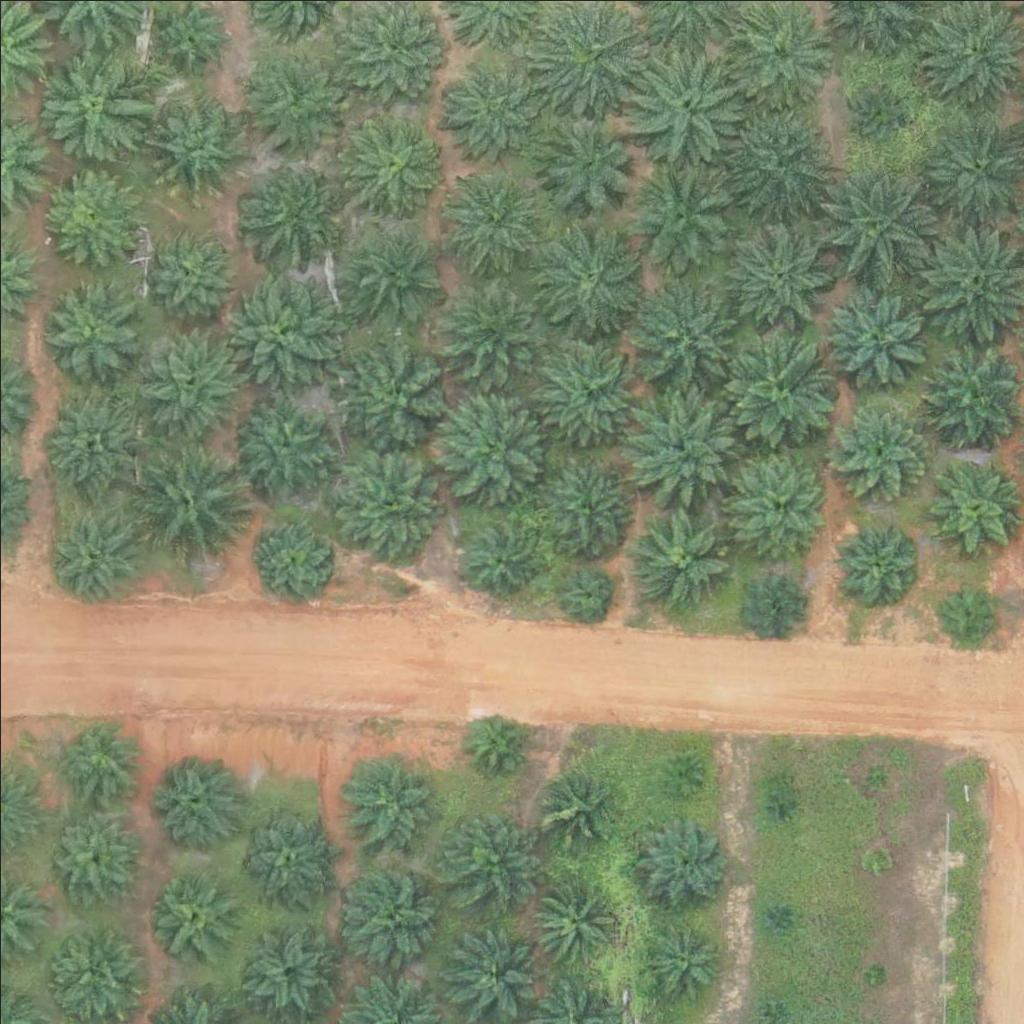Kelapa_Sawit: (812, 156, 937, 282), (711, 325, 836, 451), (715, 96, 840, 222), (628, 276, 753, 402), (618, 45, 743, 171), (523, 214, 648, 340), (323, 441, 448, 567), (335, 330, 460, 456), (215, 266, 340, 392), (124, 440, 249, 566), (128, 317, 253, 443), (26, 41, 151, 167), (527, 323, 652, 448), (626, 389, 739, 502), (625, 157, 738, 270), (530, 101, 643, 214), (431, 47, 544, 160), (627, 804, 739, 917), (816, 277, 928, 390), (725, 220, 837, 333), (438, 386, 550, 499), (437, 274, 549, 387), (438, 807, 538, 908), (344, 862, 444, 963), (339, 752, 439, 853), (832, 396, 932, 497), (728, 455, 828, 556), (628, 507, 728, 608), (539, 453, 639, 554), (340, 219, 440, 320), (339, 118, 439, 219), (232, 163, 332, 264), (244, 58, 344, 159), (141, 95, 241, 196), (233, 804, 333, 904), (141, 753, 241, 853), (39, 807, 139, 907), (234, 395, 334, 495), (44, 503, 144, 603), (40, 387, 140, 487), (40, 280, 140, 380), (38, 163, 138, 263), (633, 917, 721, 1006), (248, 924, 336, 1012), (527, 874, 615, 962), (929, 464, 1017, 552), (830, 515, 918, 603), (449, 176, 537, 264), (49, 923, 136, 1011), (448, 922, 535, 1010), (146, 873, 233, 961), (52, 716, 139, 804), (145, 225, 232, 313), (252, 522, 327, 598), (533, 769, 608, 844), (461, 520, 536, 595), (466, 708, 529, 771), (844, 73, 907, 136), (743, 570, 806, 633), (934, 577, 996, 640), (561, 566, 611, 616), (661, 757, 699, 795), (764, 994, 789, 1019), (862, 959, 887, 984), (866, 847, 891, 872), (863, 763, 888, 788), (763, 905, 788, 930), (770, 795, 795, 820)
